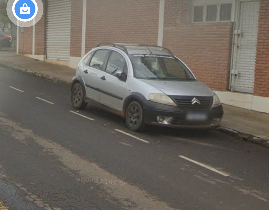car: (68, 37, 229, 149)
